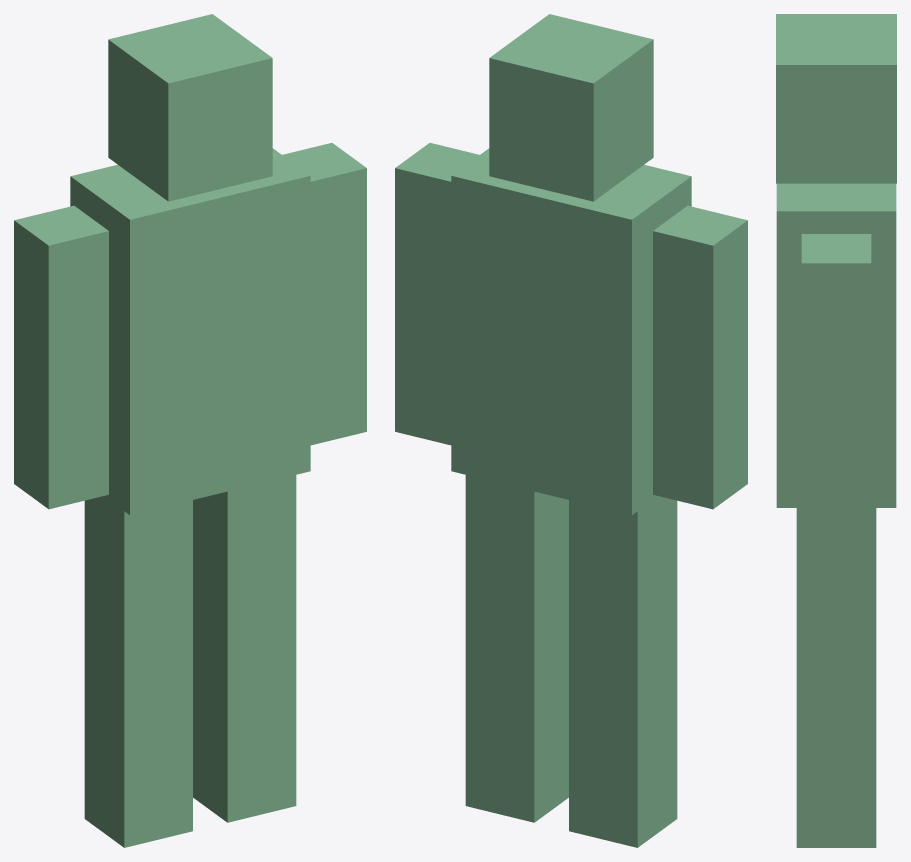
Rendered from alchemist.glb.
3 views of the same model, side by side, from view 1: azimuth 30°, elevation 25°; view 2: azimuth 150°, elevation 25°; view 3: azimuth 270°, elevation 25° (orthographic).
Visible parts, largest first — view 1: alchemist; view 2: alchemist; view 3: alchemist.
Boxes of the visible parts, box(x1,y1,x2,y2) form: alchemist: box(14, 14, 366, 847); alchemist: box(395, 14, 747, 847); alchemist: box(776, 14, 896, 847).
Size of the model in its own units: 0.703 by 1.61 by 0.2304.
